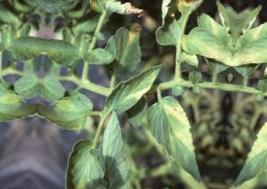Tomato mold leaf: (139, 91, 213, 183), (105, 54, 168, 118), (100, 12, 147, 80), (38, 86, 99, 133), (63, 133, 110, 189), (184, 25, 235, 67)
